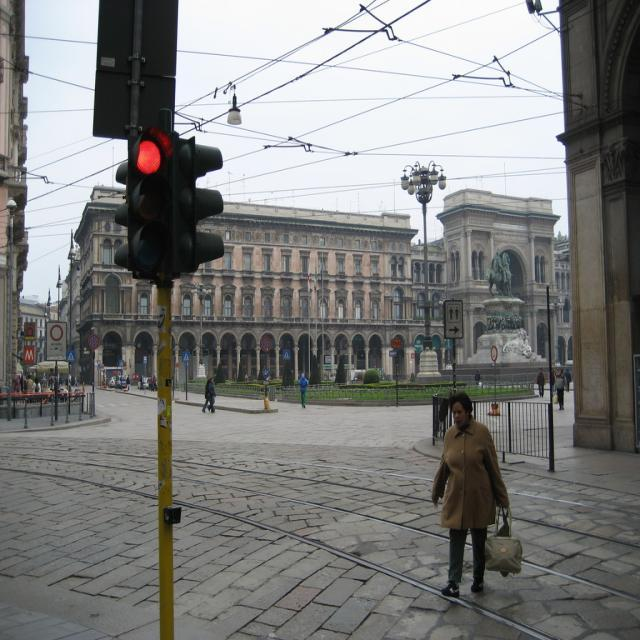off traffic light: (179, 129, 237, 281)
traffic light: (114, 108, 173, 290)
